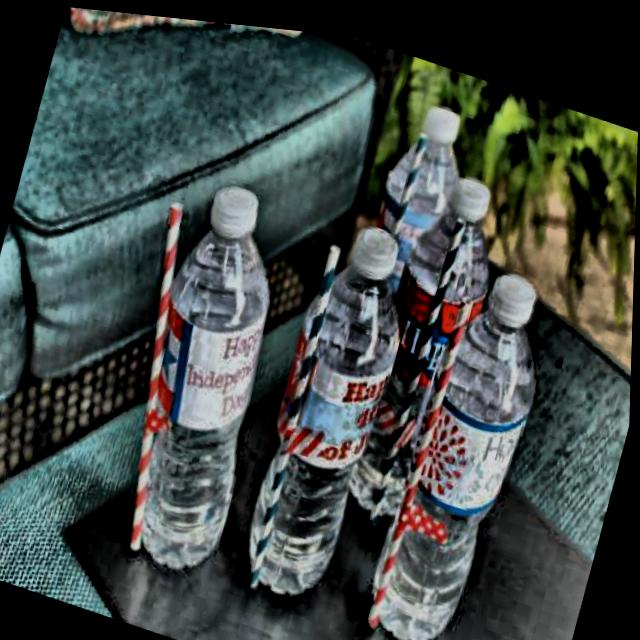Bottles: (75, 158, 313, 592), (353, 231, 575, 640), (225, 182, 429, 627)
